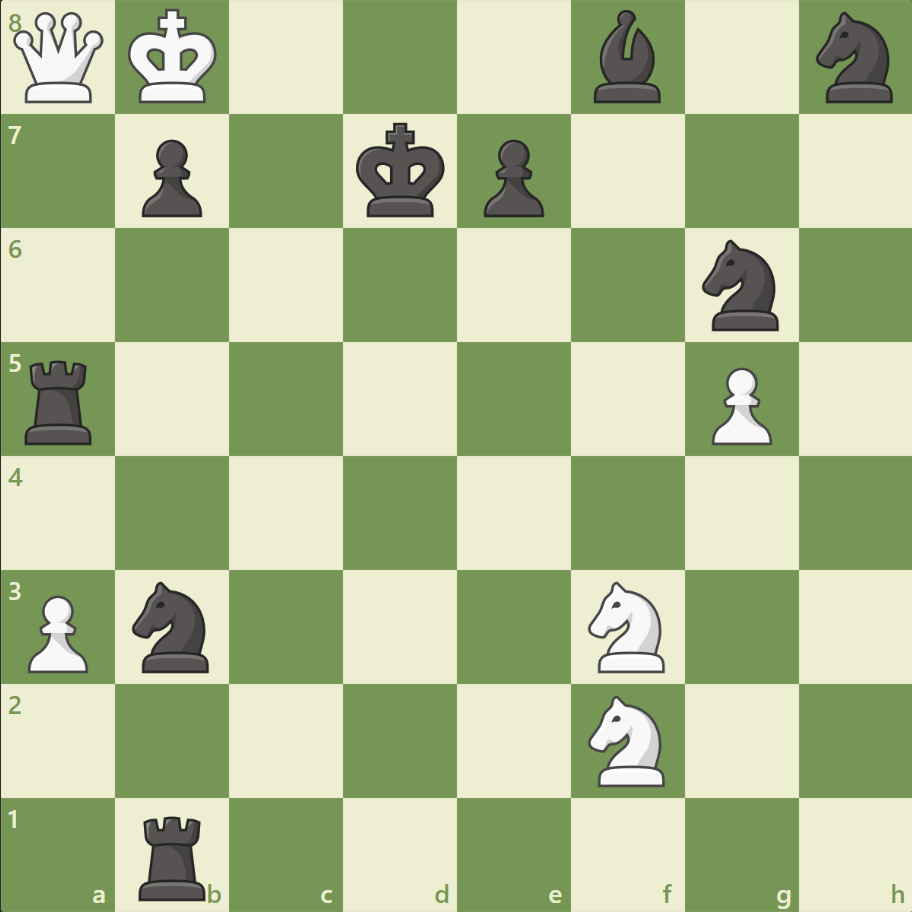K: (124, 4, 224, 112)
N: (579, 688, 676, 791), (579, 575, 676, 677)
P: (701, 359, 776, 450), (20, 586, 95, 677)
Q: (10, 9, 109, 108)
b: (585, 6, 669, 109)
k: (351, 117, 451, 225)
n: (124, 575, 222, 677), (806, 7, 903, 110), (692, 234, 789, 337)
p: (133, 132, 208, 223), (474, 132, 549, 223)
r: (19, 352, 102, 449), (133, 806, 215, 904)
